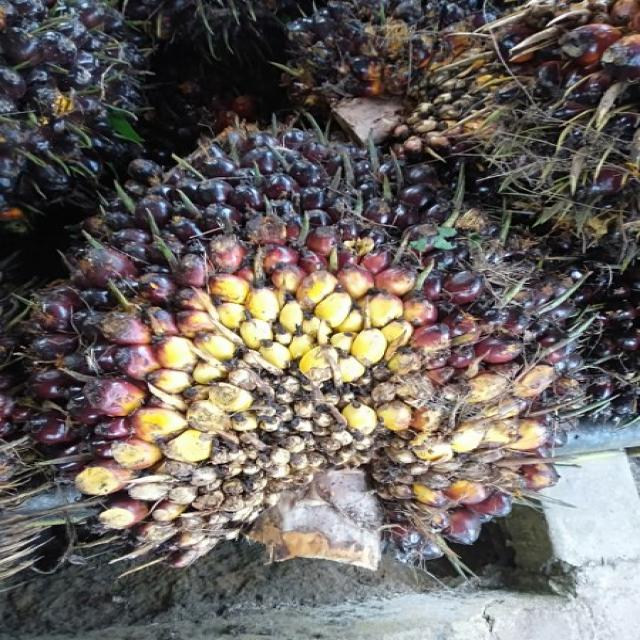fraksi 1: (43, 80, 575, 638)
